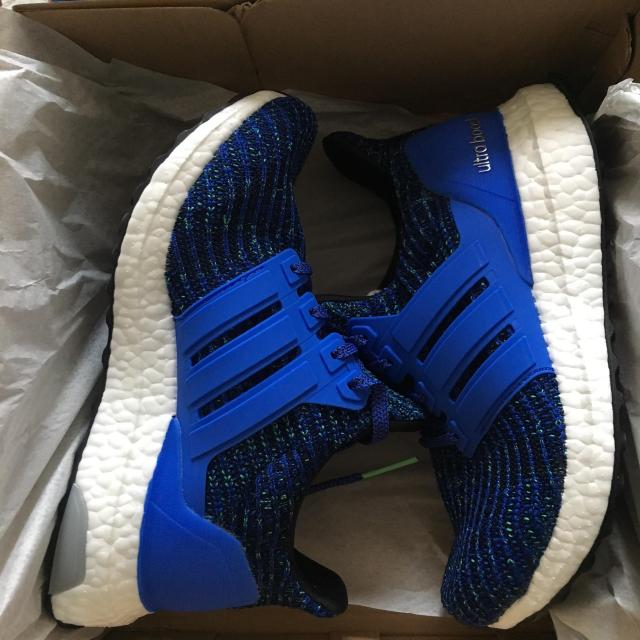shoe: (38, 86, 426, 628), (293, 84, 622, 637)
